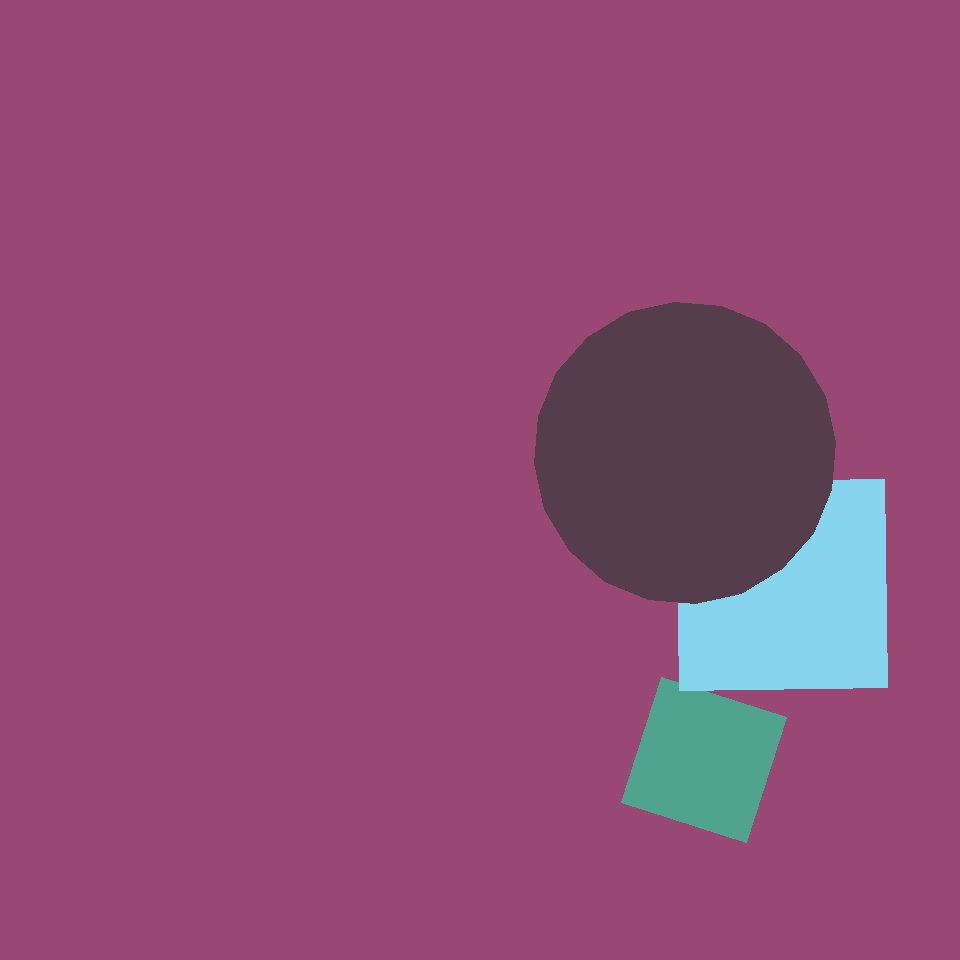circle: (270, 94, 506, 298), (564, 261, 745, 445)
square: (41, 360, 408, 727), (676, 480, 888, 690), (622, 678, 786, 842)
triangle: (619, 475, 932, 788), (534, 302, 835, 604), (47, 87, 287, 327)
